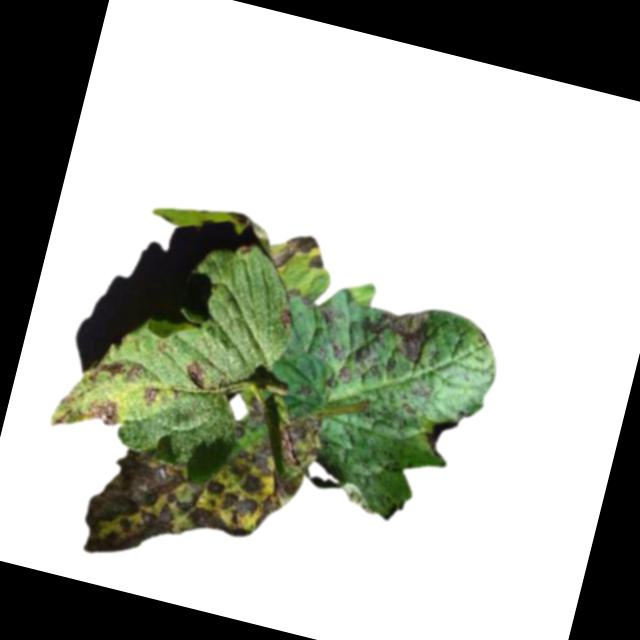Early_blight: (76, 370, 322, 599), (352, 293, 435, 374), (267, 227, 330, 281), (88, 347, 145, 389), (421, 411, 459, 460), (87, 395, 124, 427), (181, 358, 211, 388), (275, 305, 296, 330), (141, 384, 160, 407), (329, 338, 348, 360), (336, 365, 353, 385)
